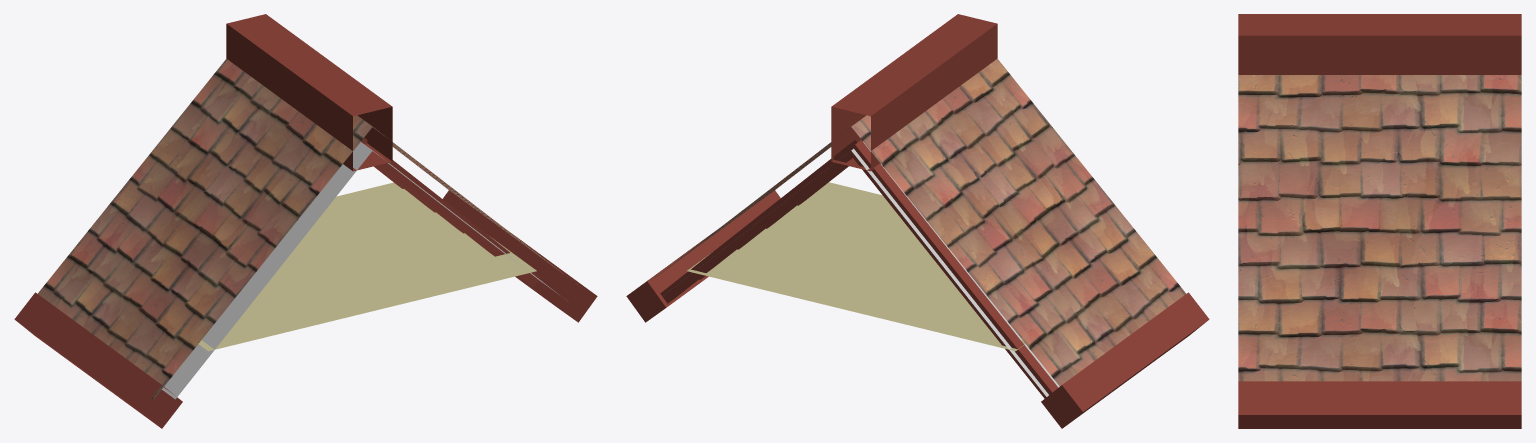
The model's file is roof_6x3x4.fbx.
3 views of the same model, side by side, from view 1: azimuth 30°, elevation 25°; view 2: azimuth 150°, elevation 25°; view 3: azimuth 270°, elevation 25° (orthographic). The views are drawn at different scales.
Visible parts, largest first — view 1: roof_6x3x4; view 2: roof_6x3x4; view 3: roof_6x3x4.
Part boxes in pixels (left/top/right/bottom): roof_6x3x4: left=14, top=14, right=597, bottom=428; roof_6x3x4: left=626, top=14, right=1209, bottom=428; roof_6x3x4: left=1238, top=14, right=1521, bottom=428.
Size of the model in its own units: 833 by 464 by 400.
